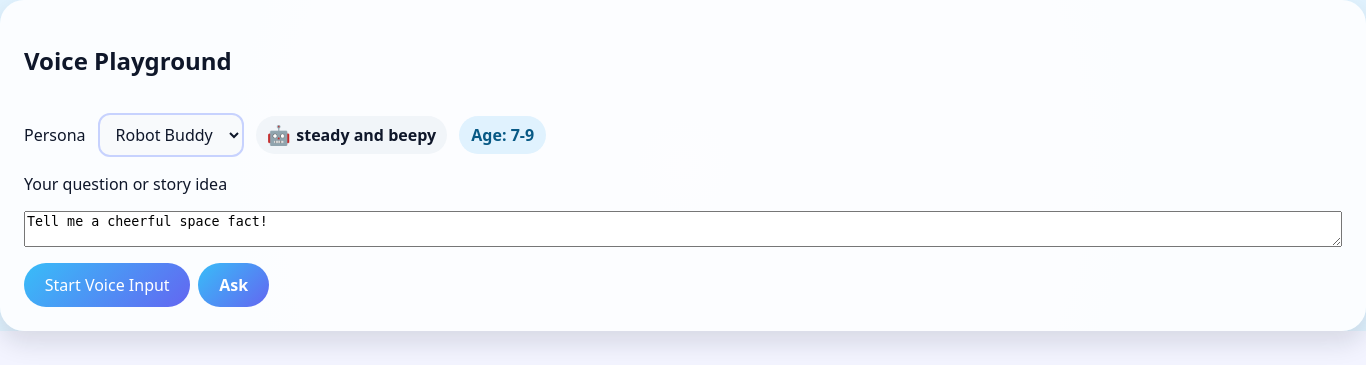
Scenario: VoiceBar voice capture › writes captured transcript into the textarea without submitting
Click the button "Start Voice Input". click: {"x": 107, "y": 285}
box: [24,263,190,307]
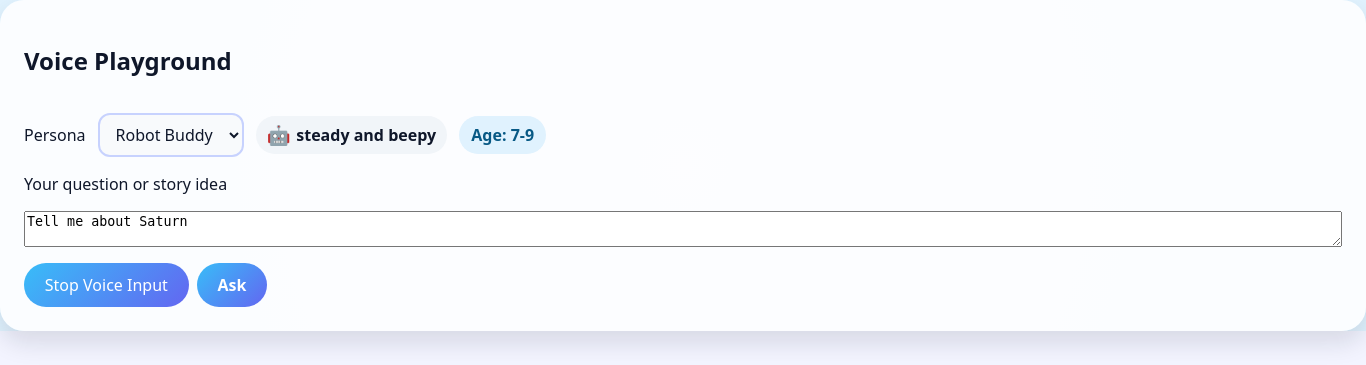
Now the text box with placeholder "Ask a question or share a topic" holds "Tell me about Saturn", box [24,211,1342,247]
